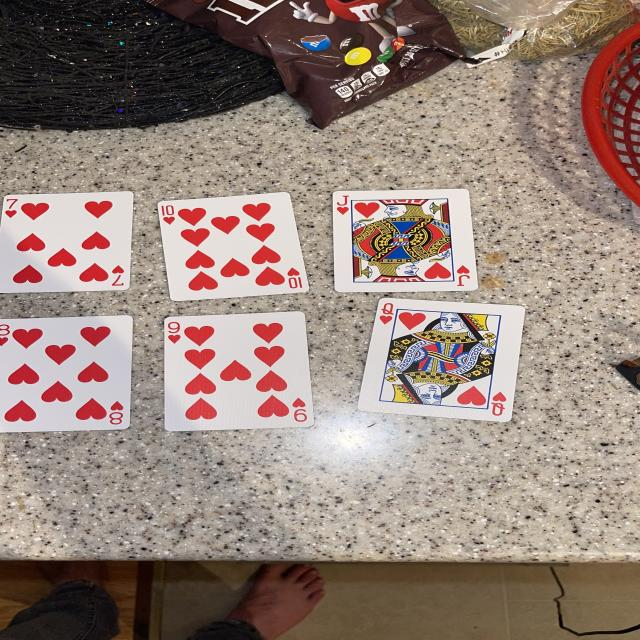10 of hearts: (158, 192, 309, 301)
7 of hearts: (0, 191, 133, 292)
8 of hearts: (0, 315, 133, 432)
9 of hearts: (164, 311, 313, 431)
Jack of hearts: (333, 189, 478, 292)
Queen of hearts: (358, 298, 524, 421)
